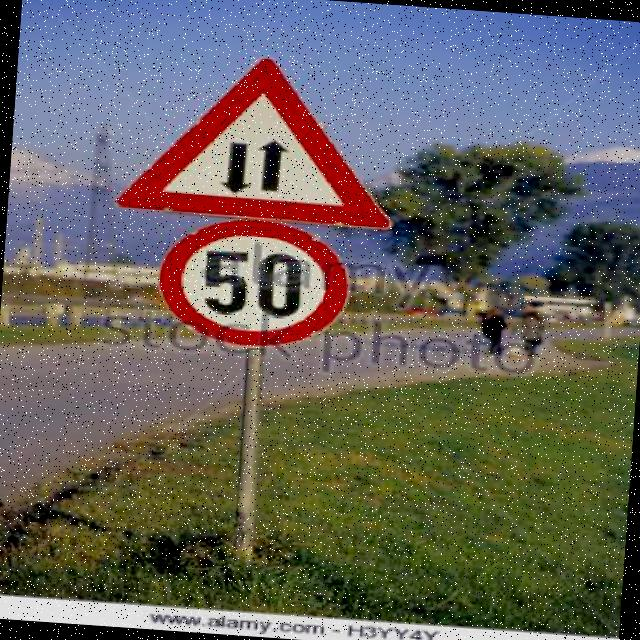Ograniczenie predkosci do 50: (153, 213, 366, 356)
